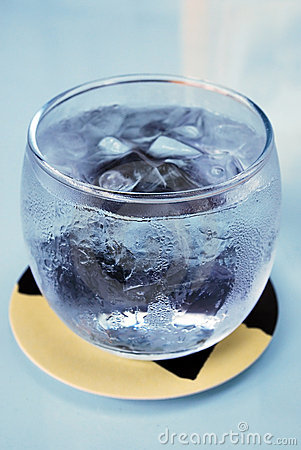glass of water: (17, 80, 279, 354)
